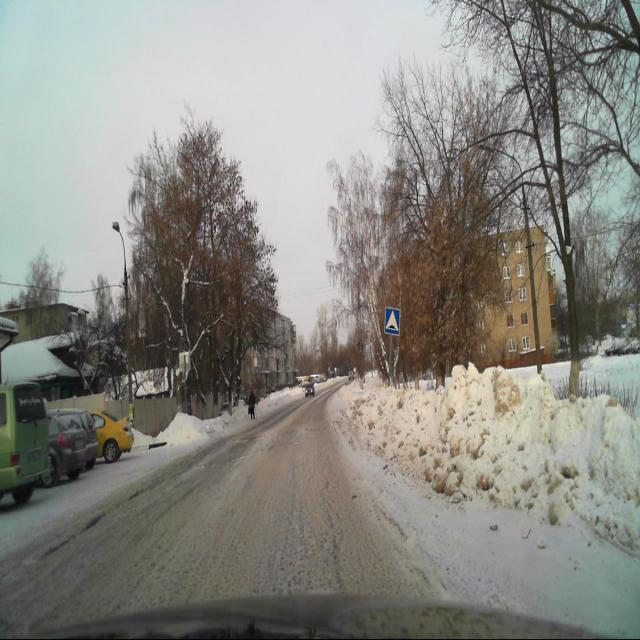road sign: (384, 308, 400, 334)
